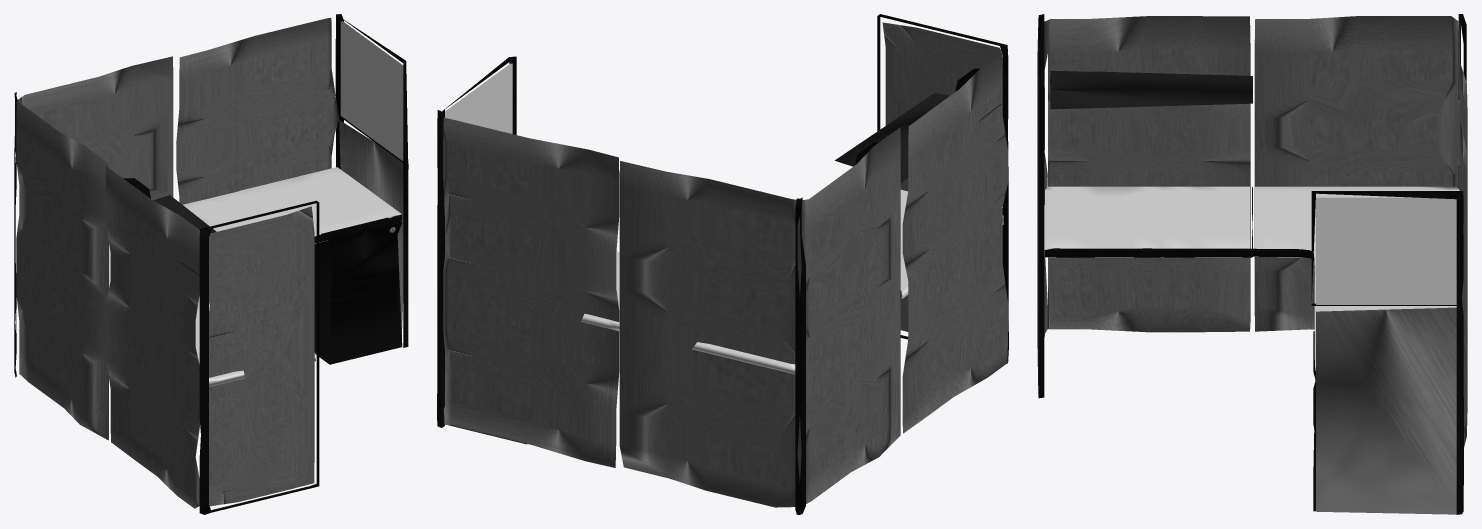
Rendered from cubicle.glb.
3 views of the same model, side by side, from view 1: azimuth 30°, elevation 25°; view 2: azimuth 150°, elevation 25°; view 3: azimuth 270°, elevation 25° (orthographic). The views are drawn at different scales.
Parts seen in each view (by area): view 1: cubicle; view 2: cubicle; view 3: cubicle.
Part boxes in pixels (box(x1,y1,x2,y2)): cubicle: box(14, 14, 408, 514); cubicle: box(437, 14, 1008, 514); cubicle: box(1037, 14, 1467, 514).
Bounding box in the file's own units: 2 × 1.64 × 1.99.
7 materials, 1 textured.
